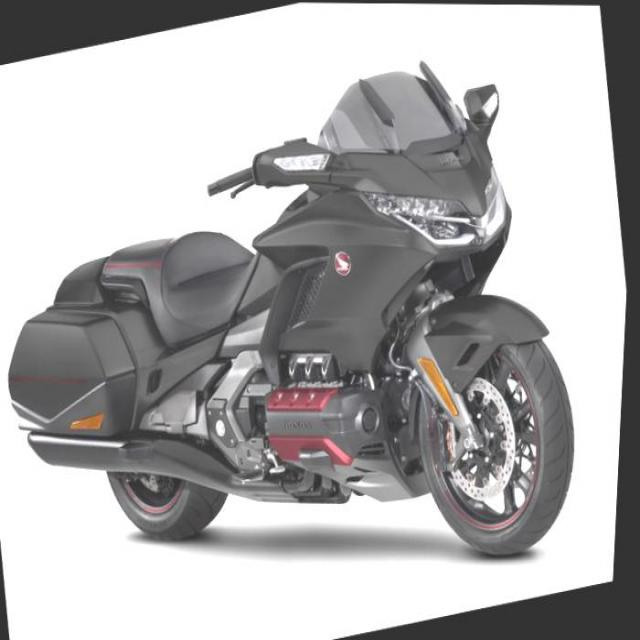Gold Wing: (0, 0, 612, 639)
